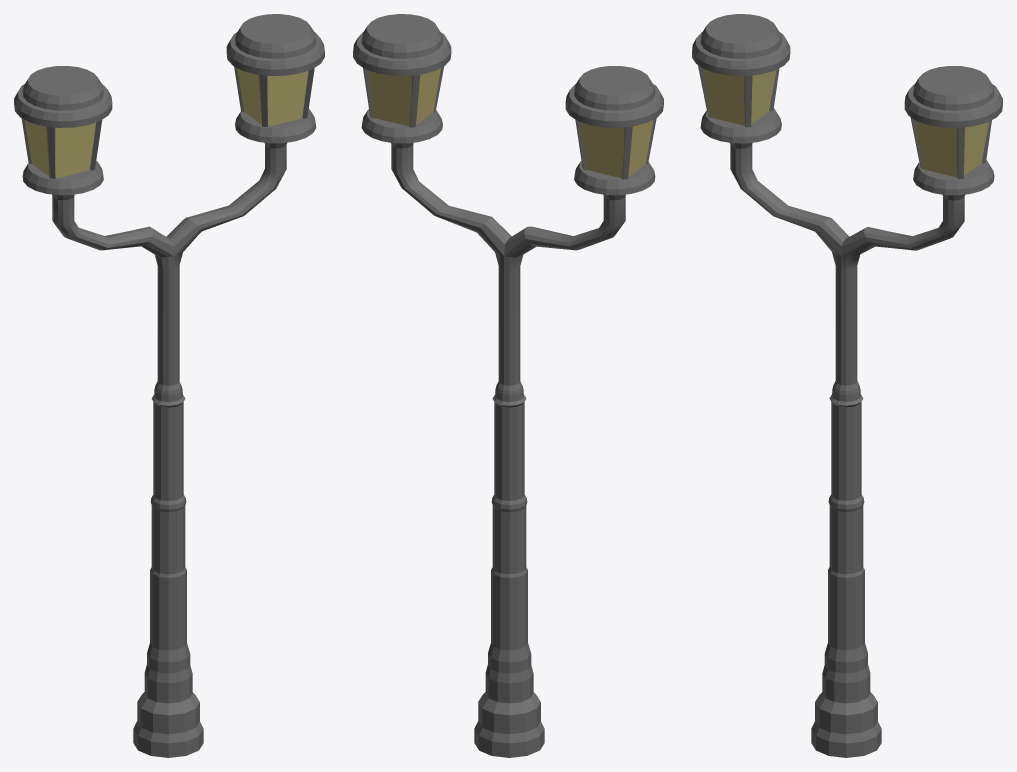
Rendered from StreetLight.fbx.
3 renders of one model, left to right at view 1: azimuth 30°, elevation 25°; view 2: azimuth 150°, elevation 25°; view 3: azimuth 330°, elevation 25°, orthographic.
Visible parts, largest first — view 1: StreetLight; view 2: StreetLight; view 3: StreetLight.
Boxes of the visible parts, x1=… form: StreetLight: x1=14, y1=14, x2=324, y2=757; StreetLight: x1=353, y1=14, x2=663, y2=757; StreetLight: x1=692, y1=14, x2=1002, y2=757.
Size of the model in its own units: 2.11 by 4.66 by 0.6065.
